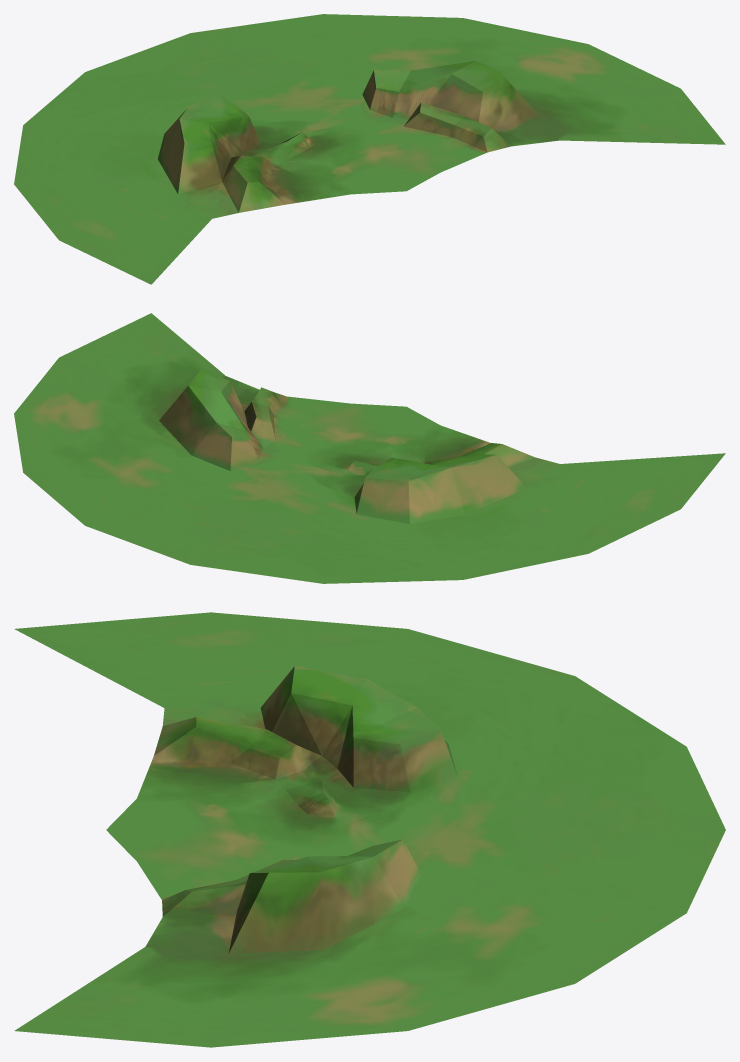
The model's file is field.dae.
3 renders of one model, top to bottom at view 1: azimuth 30°, elevation 25°; view 2: azimuth 150°, elevation 25°; view 3: azimuth 270°, elevation 25°, orthographic. The views are drawn at different scales.
Visible parts, largest first — view 1: fieldOB; view 2: fieldOB; view 3: fieldOB.
Boxes of the visible parts, box(x1,y1,x2,y2) form: fieldOB: box(14, 14, 725, 284); fieldOB: box(14, 313, 725, 583); fieldOB: box(14, 612, 725, 1047).
Bounding box in the file's own units: 628 × 434 × 41.23.
